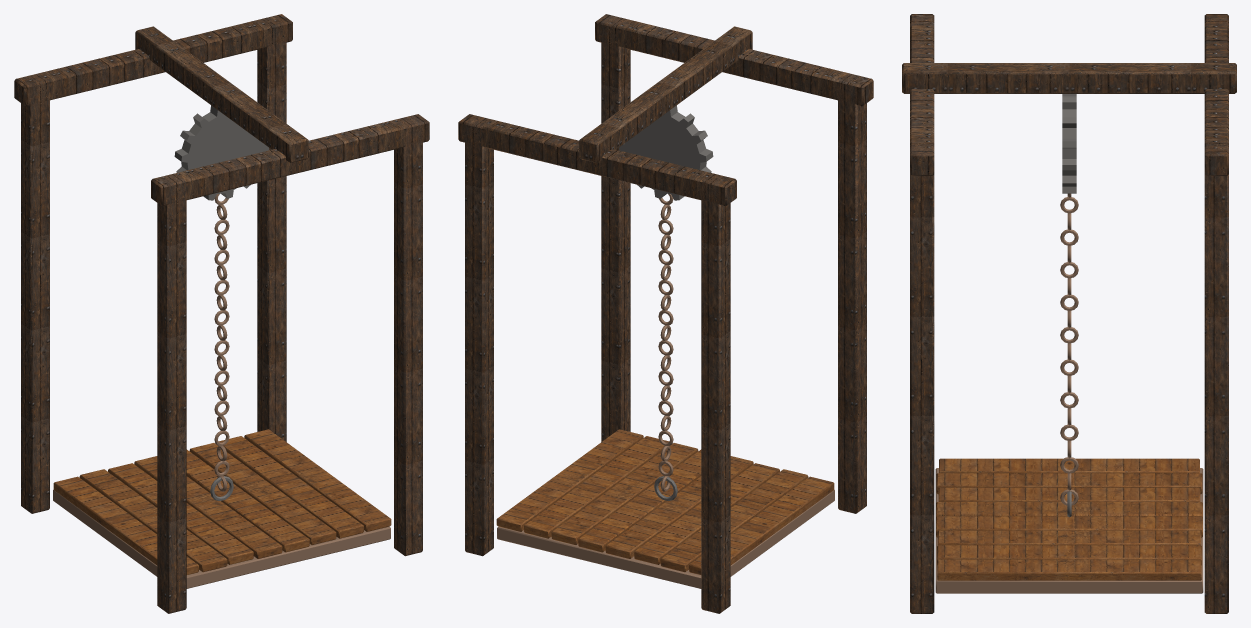
Rendered from cargo-lift-v01.glb.
The picture shows the model from 3 angles, left to right: view 1: azimuth 30°, elevation 25°; view 2: azimuth 150°, elevation 25°; view 3: azimuth 270°, elevation 25°; orthographic projection. The views are drawn at different scales.
Visible parts, largest first — view 1: cargo-lift; view 2: cargo-lift; view 3: cargo-lift.
Boxes of the visible parts, box(x1,y1,x2,y2) form: cargo-lift: box(14, 14, 429, 613); cargo-lift: box(458, 14, 873, 613); cargo-lift: box(902, 14, 1236, 613).
Size of the model in its own units: 2.75 by 4.35 by 2.75.
4 materials, 2 textured.
